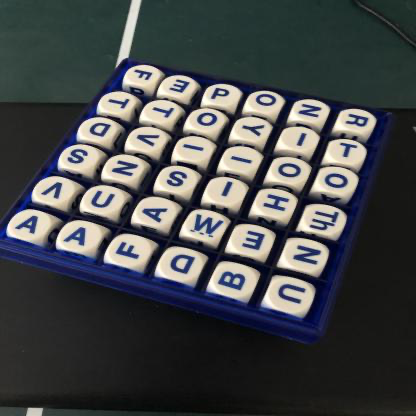a: (59, 221, 103, 254), (10, 212, 53, 242), (136, 198, 178, 228)
b: (213, 265, 256, 298)
d: (161, 250, 203, 283), (79, 119, 119, 144)
e: (233, 225, 273, 256), (162, 76, 197, 99)
f: (108, 236, 152, 267), (126, 66, 161, 87)
h: (257, 191, 297, 217)
i: (207, 178, 247, 208), (222, 148, 262, 174), (280, 128, 320, 153), (176, 137, 214, 163)
n: (286, 241, 328, 272), (106, 156, 146, 183), (293, 100, 331, 124)
o: (272, 158, 312, 186), (321, 167, 358, 196), (190, 110, 227, 133), (250, 92, 283, 113)
p: (206, 85, 241, 106)
r: (341, 109, 377, 134)
s: (61, 145, 101, 173), (160, 166, 197, 194)
t: (328, 141, 369, 164), (99, 93, 137, 116), (144, 102, 182, 125)
th: (306, 207, 346, 235)
u: (268, 279, 315, 314), (84, 186, 125, 215)
v: (34, 175, 76, 207), (129, 128, 168, 152)
w: (186, 213, 228, 243)
y: (235, 119, 273, 143)
